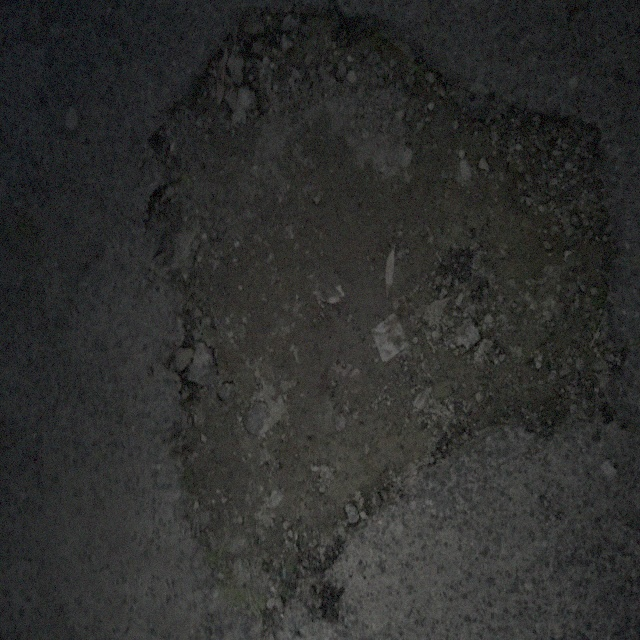pothole: (139, 6, 608, 597)
